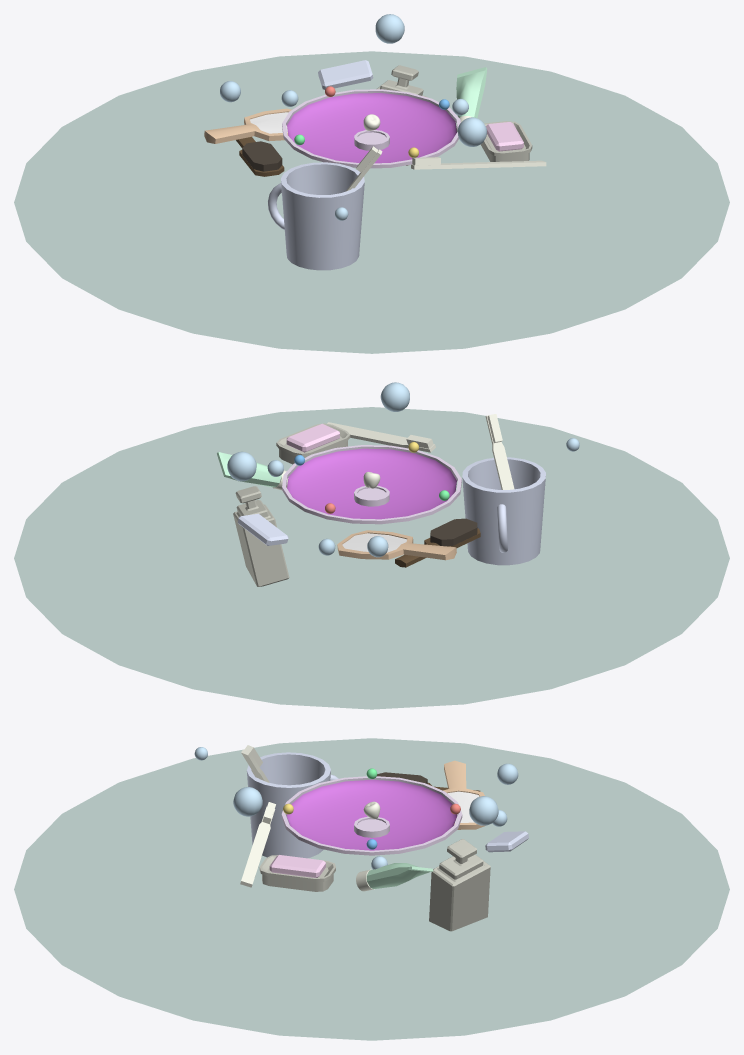
Rendered from stage_2.fbx.
3 renders of one model, top to bottom at view 1: azimuth 30°, elevation 25°; view 2: azimuth 150°, elevation 25°; view 3: azimuth 270°, elevation 25°, orthographic.
Parts seen in each view (by area): view 1: stage_2; view 2: stage_2; view 3: stage_2.
Boxes of the visible parts, x1,y1,x2,y2 form: stage_2: (14,14,729,353); stage_2: (14,382,729,709); stage_2: (14,738,729,1040).
Bounding box in the file's own units: 48.04 × 9.97 × 48.04.
